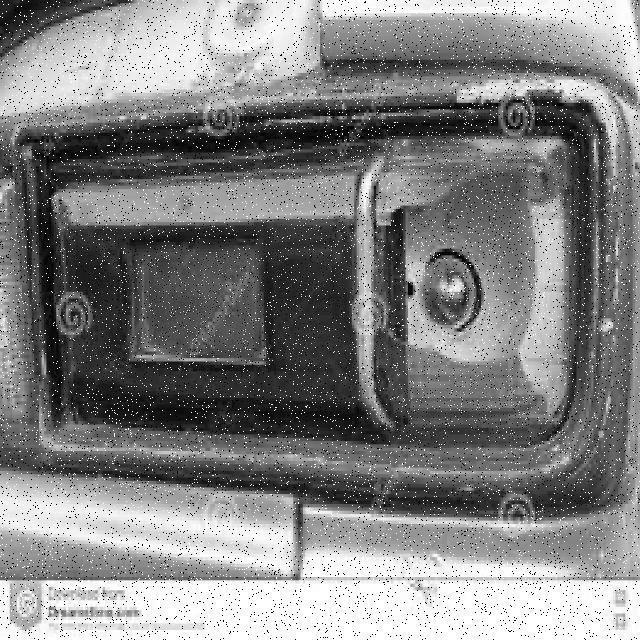Taillight-Damage: (325, 103, 622, 470)
